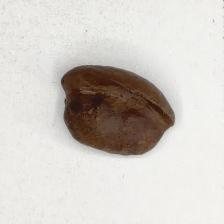NG: (62, 69, 174, 156)
